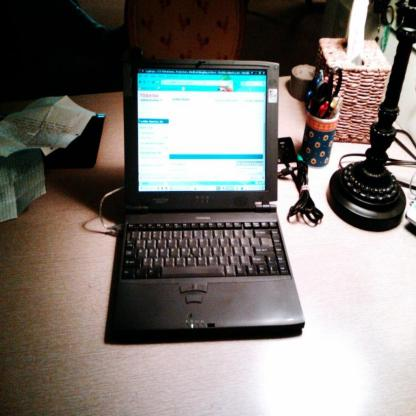board: (102, 64, 302, 337), (317, 67, 343, 117)
